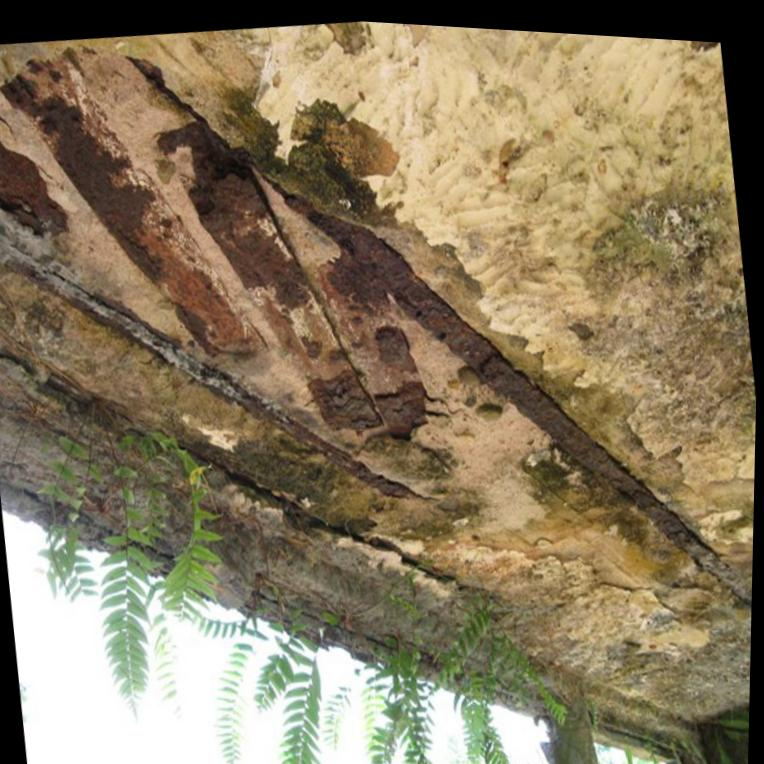damage: (0, 44, 713, 576)
